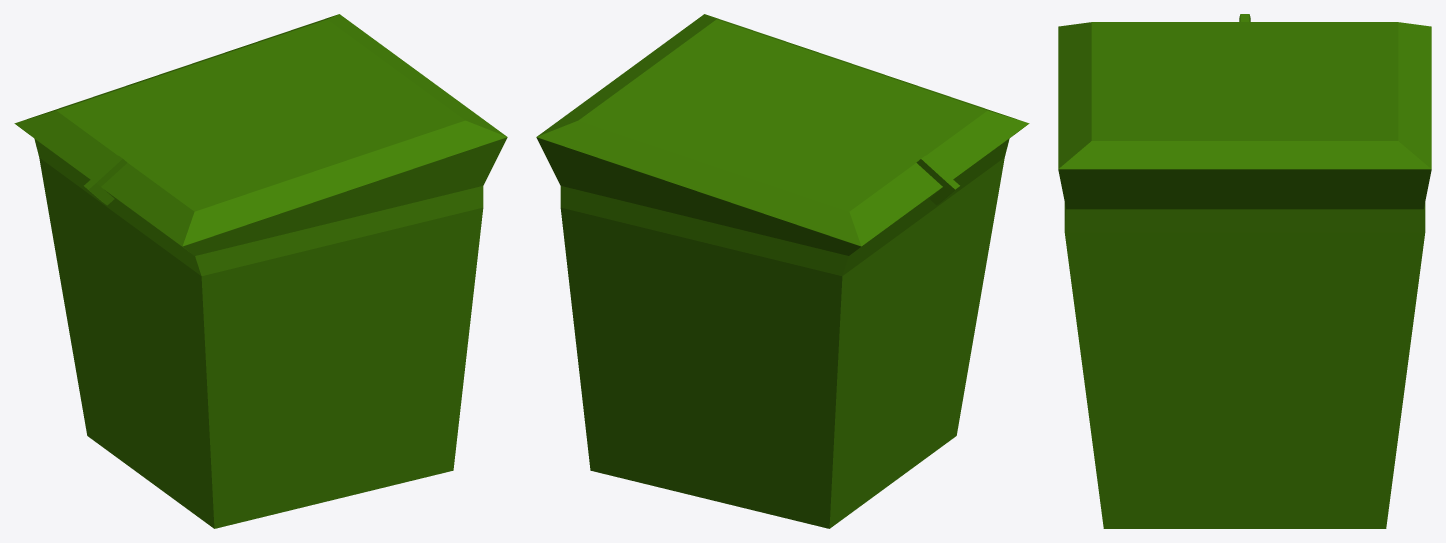
File: poubellePetite.fbx
3 renders of one model, left to right at view 1: azimuth 30°, elevation 25°; view 2: azimuth 150°, elevation 25°; view 3: azimuth 270°, elevation 25°, orthographic. The views are drawn at different scales.
Visible parts, largest first — view 1: Cube.249; view 2: Cube.249; view 3: Cube.249.
Part boxes in pixels (x1,y1,x2,y2): Cube.249: (14,14,507,528); Cube.249: (536,14,1029,528); Cube.249: (1058,14,1431,528).
Size of the model in its own units: 519 by 518 by 448.
